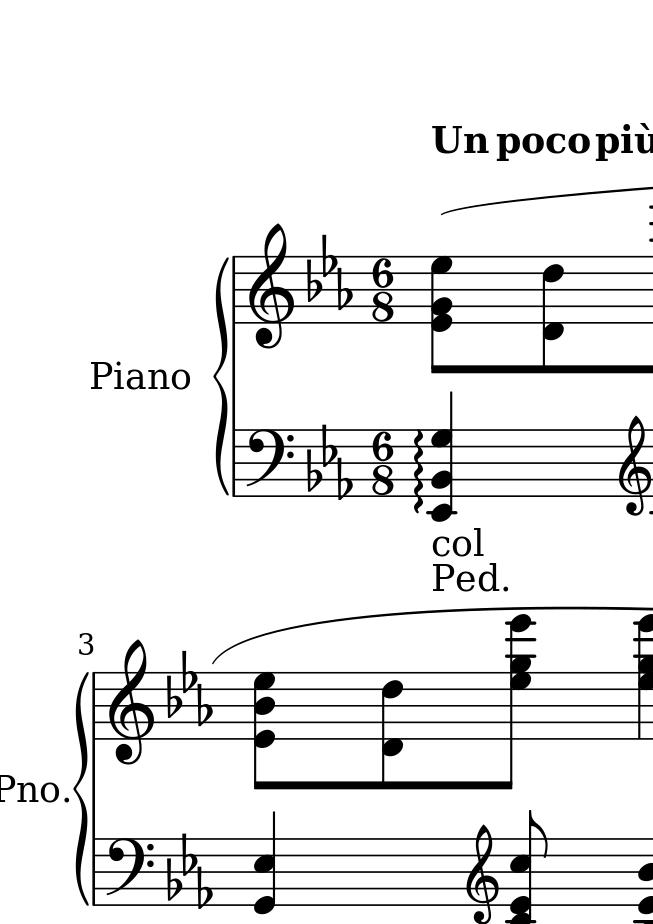3: (77, 631, 95, 657)
4_th: (428, 389, 455, 525)
6: (370, 254, 395, 293), (370, 427, 395, 463)
8: (370, 287, 396, 323), (371, 461, 396, 497)
8_-1_6: (380, 670, 406, 792)
8_th: (486, 614, 539, 792), (428, 254, 457, 377), (252, 670, 277, 792)
Arpeggio: (412, 430, 427, 519)
Brace: (212, 254, 230, 500)
E_F: (165, 831, 215, 909), (304, 231, 354, 308), (304, 423, 352, 502), (165, 652, 214, 727)
Fclef: (244, 428, 295, 500), (104, 837, 155, 909)
Gclef: (247, 222, 295, 349), (107, 639, 154, 765), (615, 413, 652, 517), (464, 822, 500, 924)
Pno: (88, 359, 191, 392), (1, 772, 60, 808)
Single_barline: (88, 673, 102, 739), (228, 257, 242, 322), (89, 838, 102, 903), (229, 430, 241, 495)
TimeSig: (370, 430, 396, 498), (371, 256, 396, 325)
